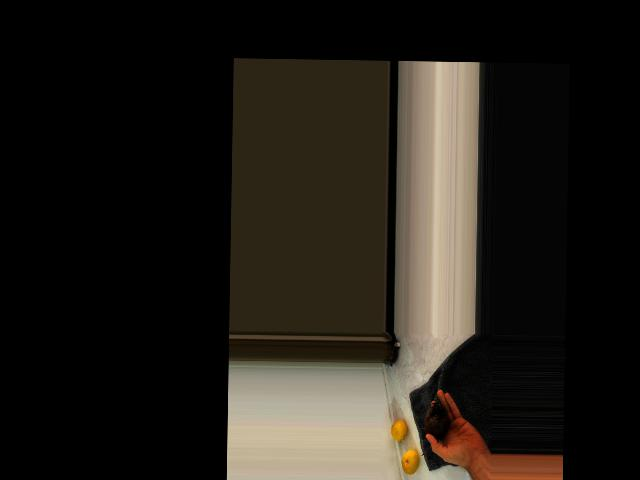beet: (421, 402, 449, 456)
